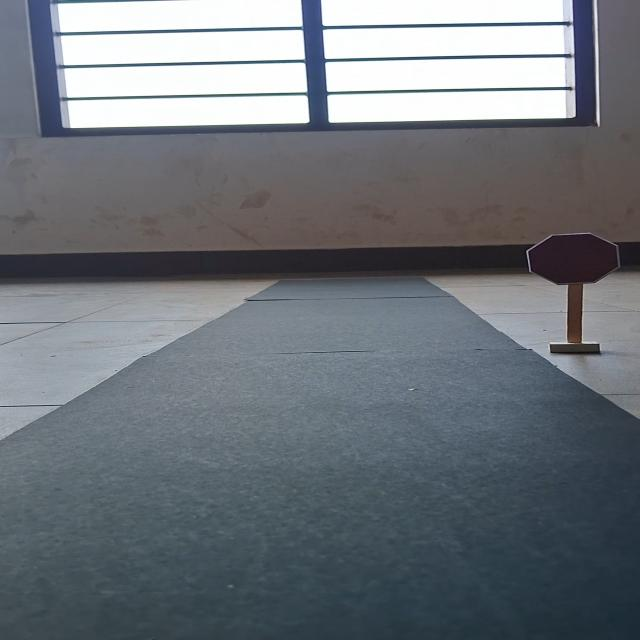Stop: (525, 232, 623, 286)
